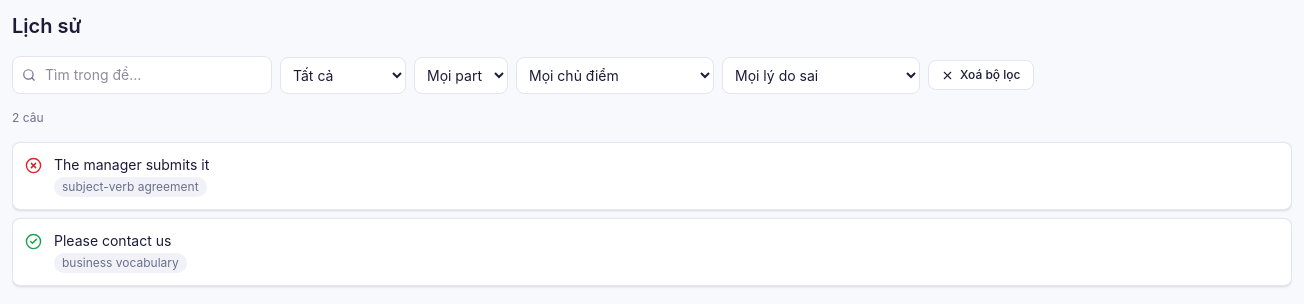
it: History view › says so when nothing matches
Expected: the text "The manager submits it" is shown, [54,156,209,173]
Step 1. Type "zzzz" into the field with placeholder "Tìm trong đề…" → (142, 75), box [12,56,272,94]
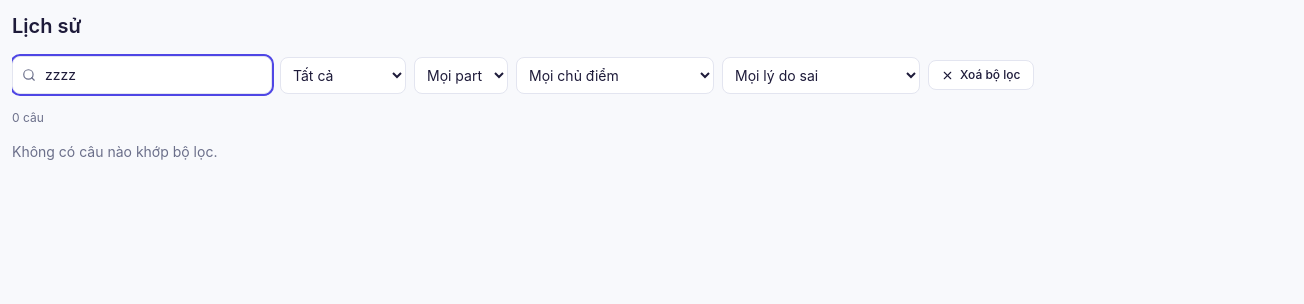
Expected: the text "Không có câu nào khớp bộ lọc." is shown, [12,143,217,160]
